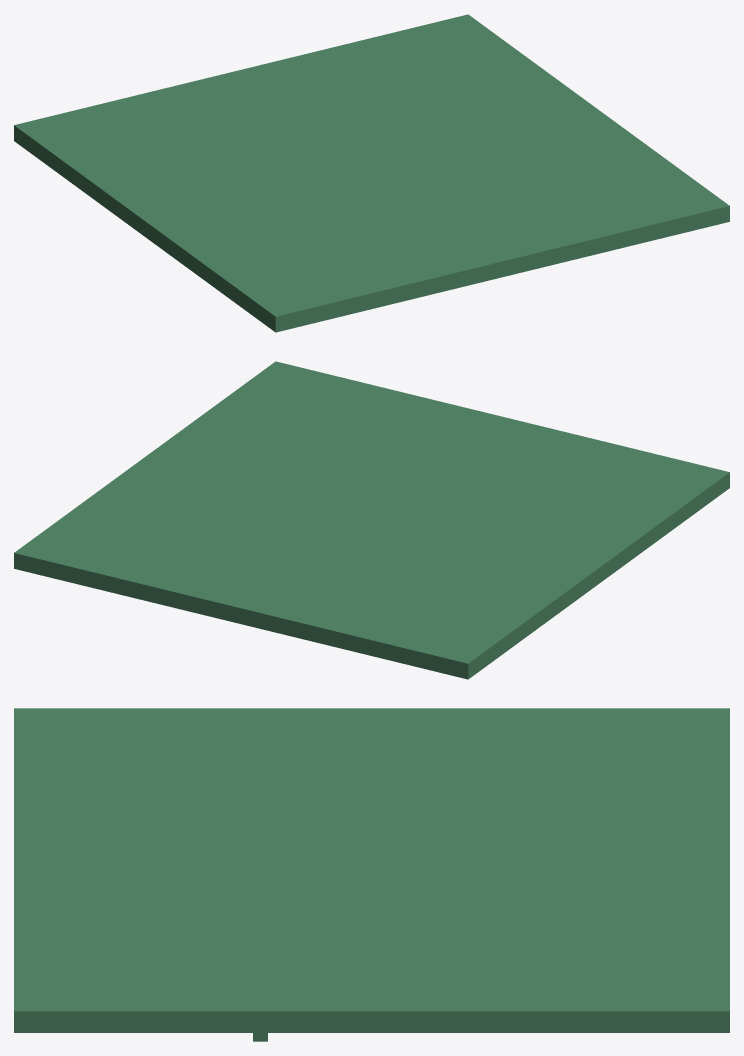
The model's file is Hub_Perfboard_v3_4.glb.
3 views of the same model, one above another, from view 1: azimuth 30°, elevation 25°; view 2: azimuth 150°, elevation 25°; view 3: azimuth 270°, elevation 25° (orthographic). The views are drawn at different scales.
Visible parts, largest first — view 1: Hub_Perfboard_v3_4; view 2: Hub_Perfboard_v3_4; view 3: Hub_Perfboard_v3_4.
Boxes of the visible parts, x1=… form: Hub_Perfboard_v3_4: x1=14, y1=14, x2=729, y2=332; Hub_Perfboard_v3_4: x1=14, y1=361, x2=729, y2=679; Hub_Perfboard_v3_4: x1=14, y1=708, x2=729, y2=1041.
Size of the model in its own units: 48 by 4.1 by 47.9.
